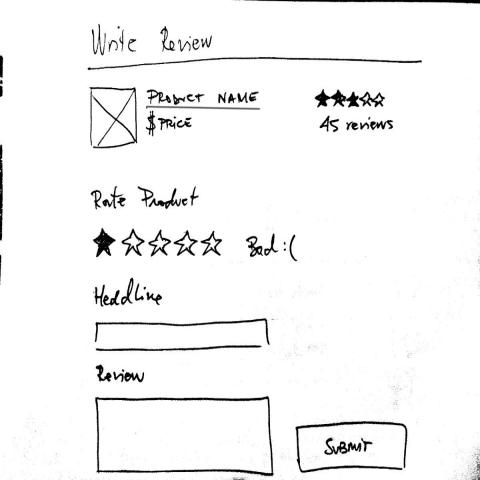Button: (295, 419, 409, 476)
Image: (89, 84, 140, 152)
Textbox: (94, 315, 273, 355)
